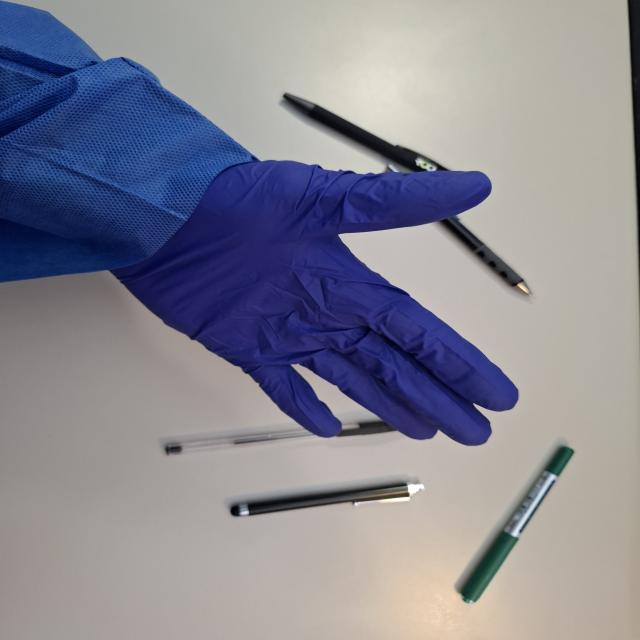glove_on: (109, 157, 522, 450)
